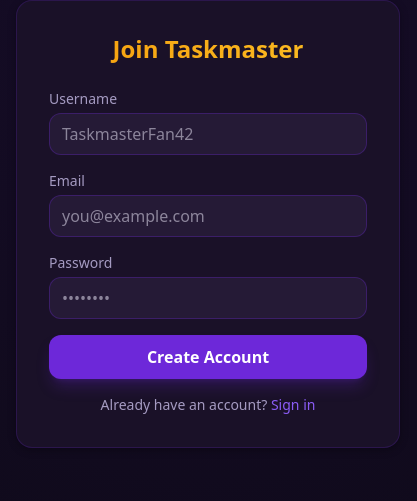
Scenario: AuthForm › error handling › shows error message on signup failure
Type "testuser" into the field with placeholder "TaskmasterFan42". click: (208, 134)
box: [49,113,367,155]
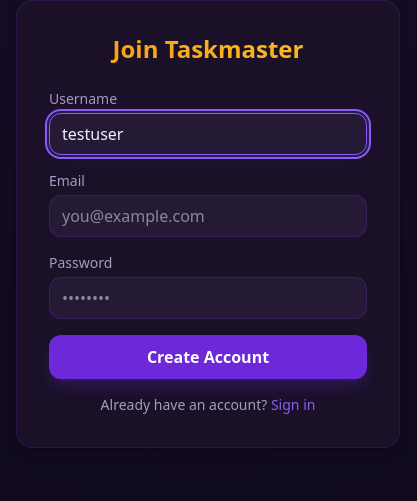
Type "test@example.com" into the field with placeholder "you@example.com". click: (208, 216)
box: [49,195,367,237]
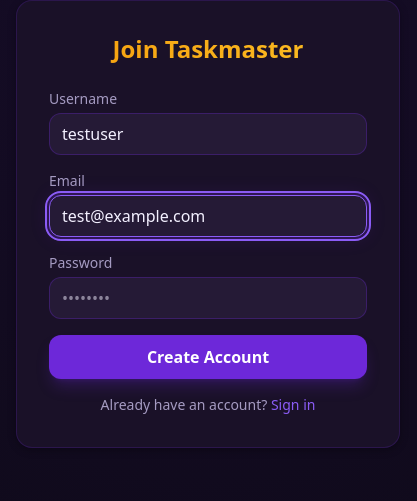
Type "password123" into the password field with placeholder "••••••••". click: (208, 298)
box: [49,277,367,319]
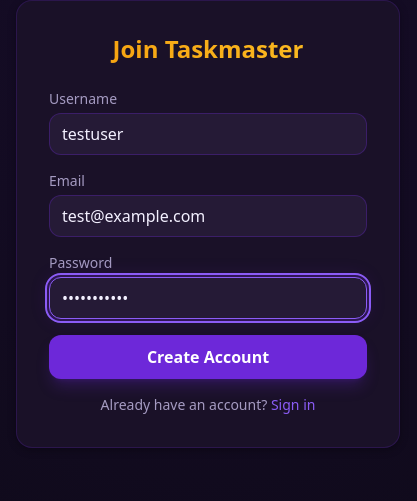
Click the button "Create Account". click: (208, 357)
box: [49,335,367,379]
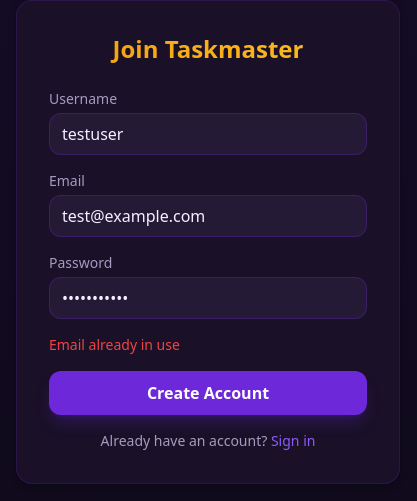
Expected: the text "Email already in use" is shown, [49,335,180,354]
